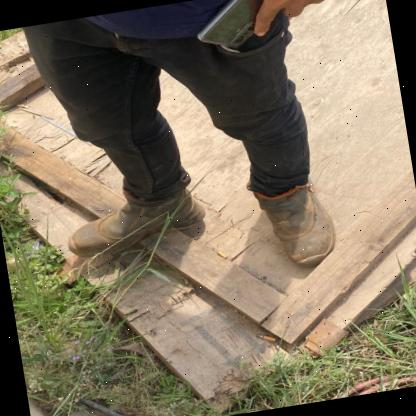bota: (60, 177, 213, 262), (254, 176, 342, 272)
